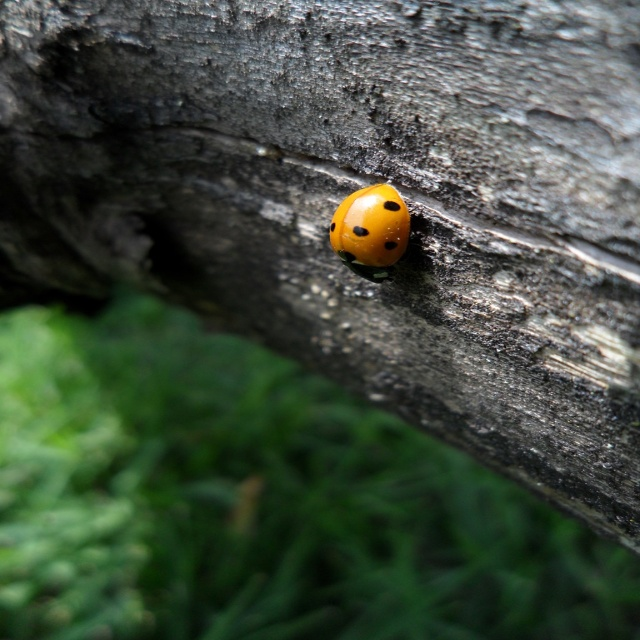Ladybug: (326, 178, 414, 283)
